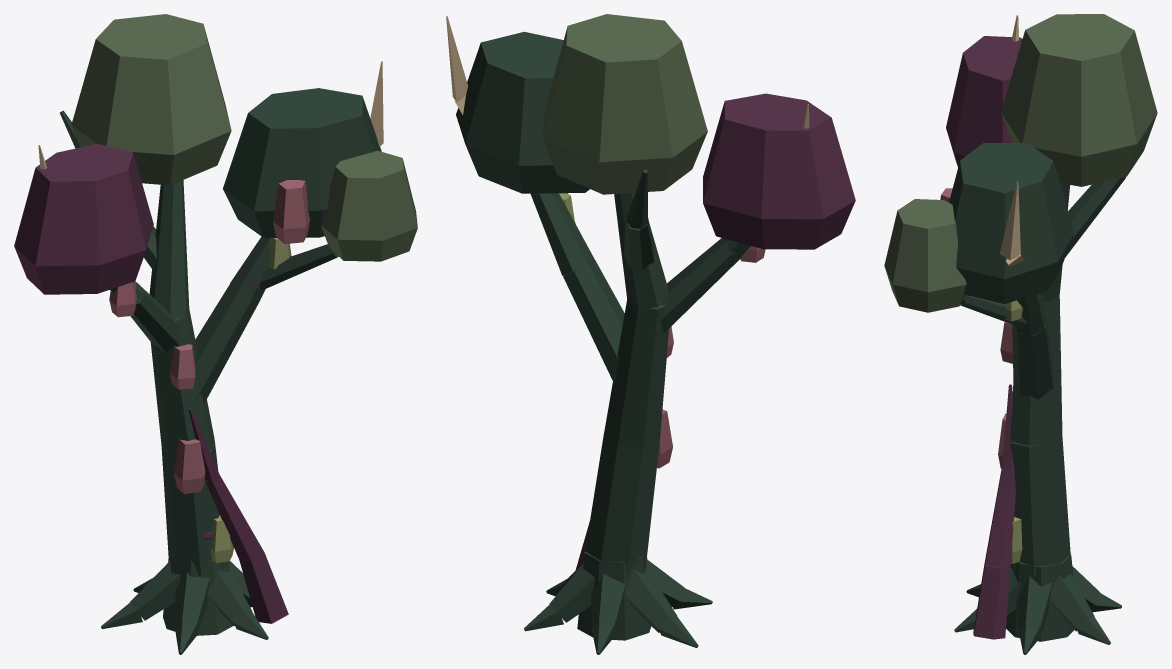
Rendered from copper-beech-bloomed.glb.
The picture shows the model from 3 angles, left to right: view 1: azimuth 30°, elevation 25°; view 2: azimuth 150°, elevation 25°; view 3: azimuth 270°, elevation 25°; orthographic projection. The views are drawn at different scales.
Parts seen in each view (by area): view 1: Copper beech · bloomed; view 2: Copper beech · bloomed; view 3: Copper beech · bloomed.
Boxes of the visible parts, x1=… form: Copper beech · bloomed: x1=14, y1=14, x2=417, y2=654; Copper beech · bloomed: x1=446, y1=14, x2=855, y2=654; Copper beech · bloomed: x1=884, y1=14, x2=1157, y2=654.
Size of the model in its own units: 2 by 2.99 by 1.28.
